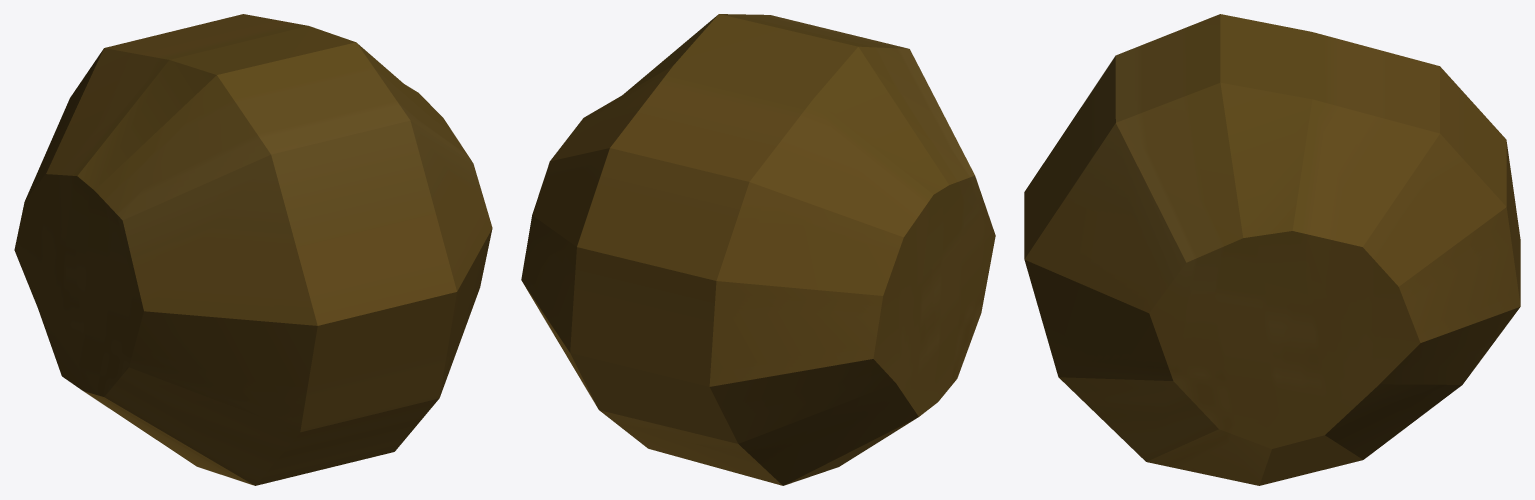
File: meteor.obj
The picture shows the model from 3 angles, left to right: view 1: azimuth 30°, elevation 25°; view 2: azimuth 150°, elevation 25°; view 3: azimuth 270°, elevation 25°; orthographic projection.
Visible parts, largest first — view 1: wind_stone_Cube.005; view 2: wind_stone_Cube.005; view 3: wind_stone_Cube.005.
Part boxes in pixels (<box>): wind_stone_Cube.005: <box>14,14,492,485</box>; wind_stone_Cube.005: <box>521,14,995,485</box>; wind_stone_Cube.005: <box>1024,14,1520,485</box>.
Size of the model in its own units: 2.83 by 3.17 by 3.52.
Materials: 1 (1 with a texture image).
